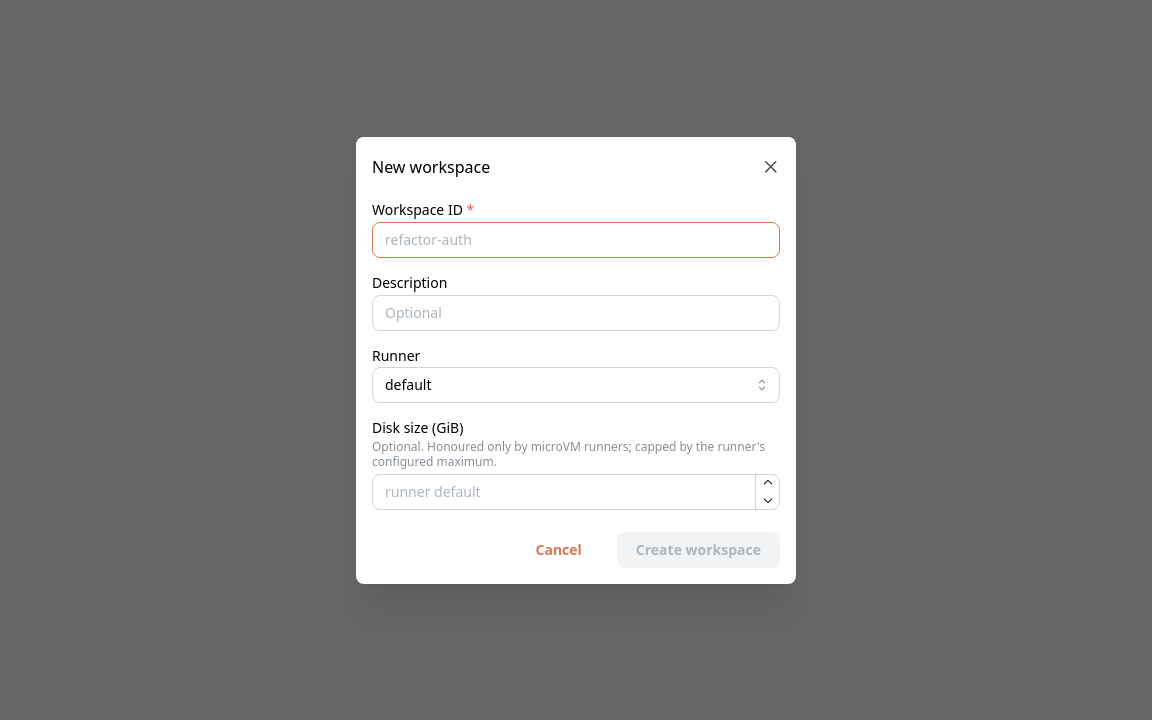
Test: CreateWorkspaceModal › creates a workspace, refreshes, and closes
The width and height of the screenshot is (1152, 720).
Type "myws" into the field with placeholder "refactor-auth". click: (576, 239)
box: [372,221,780,257]
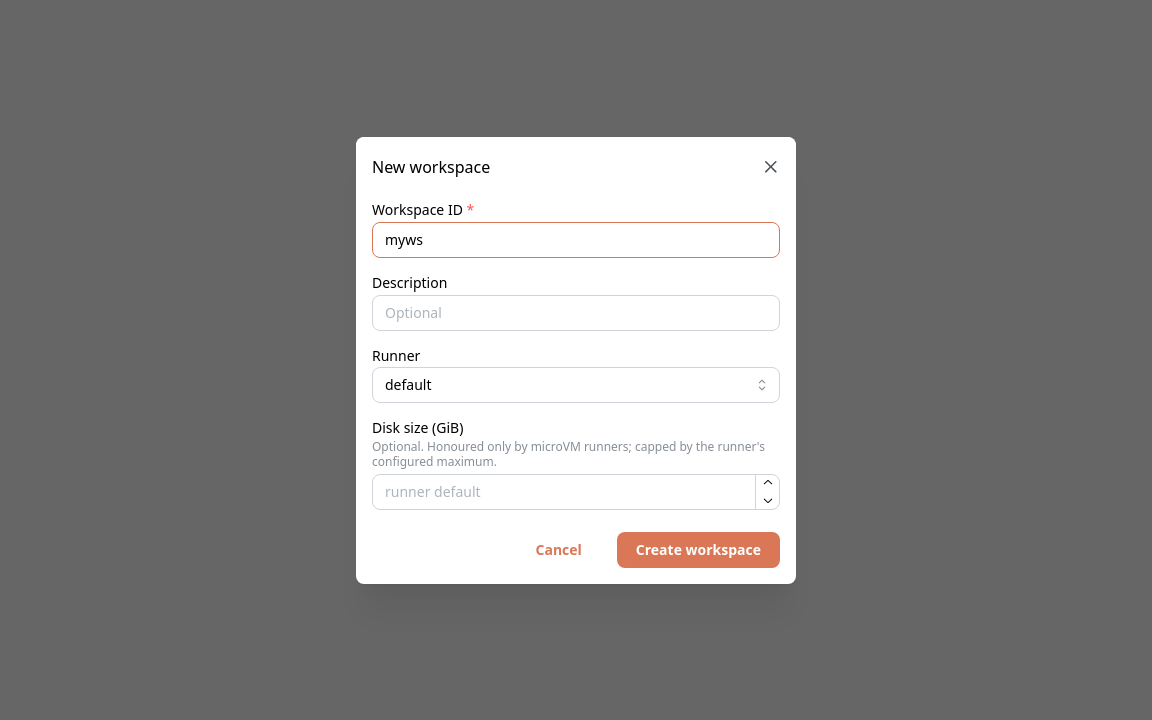
Click the button "Create workspace". click: (698, 550)
box: [617,532,780,568]
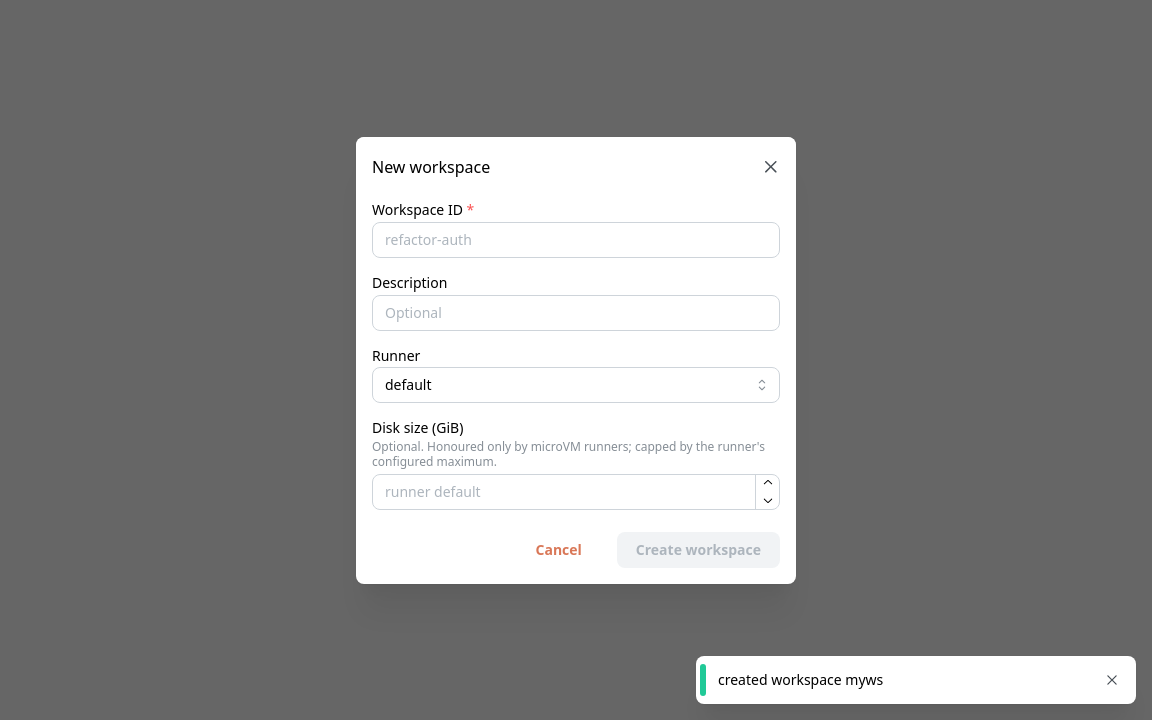
Expected: the text "created workspace myws" is shown, [718,670,883,689]
